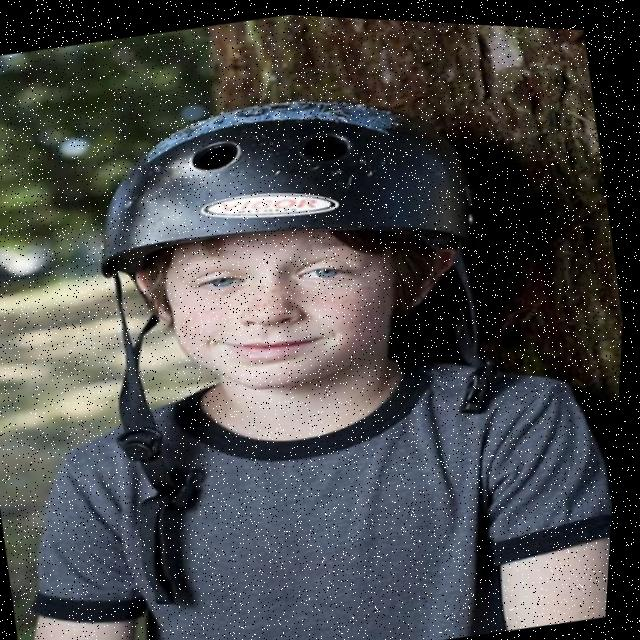illegal_helmet: (44, 39, 573, 628)
